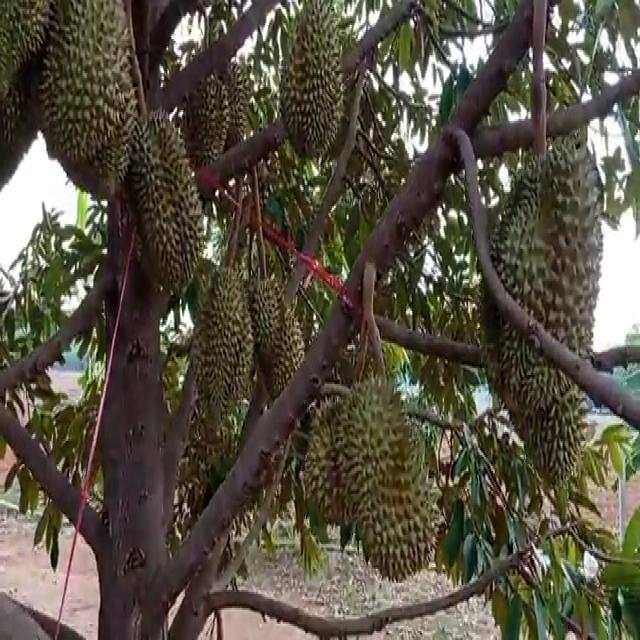durian: (475, 130, 597, 416), (339, 375, 444, 585), (37, 0, 136, 202), (112, 97, 214, 293), (272, 0, 352, 170), (510, 334, 594, 489), (235, 268, 310, 434), (303, 384, 385, 534), (186, 258, 258, 417), (175, 68, 233, 187)
